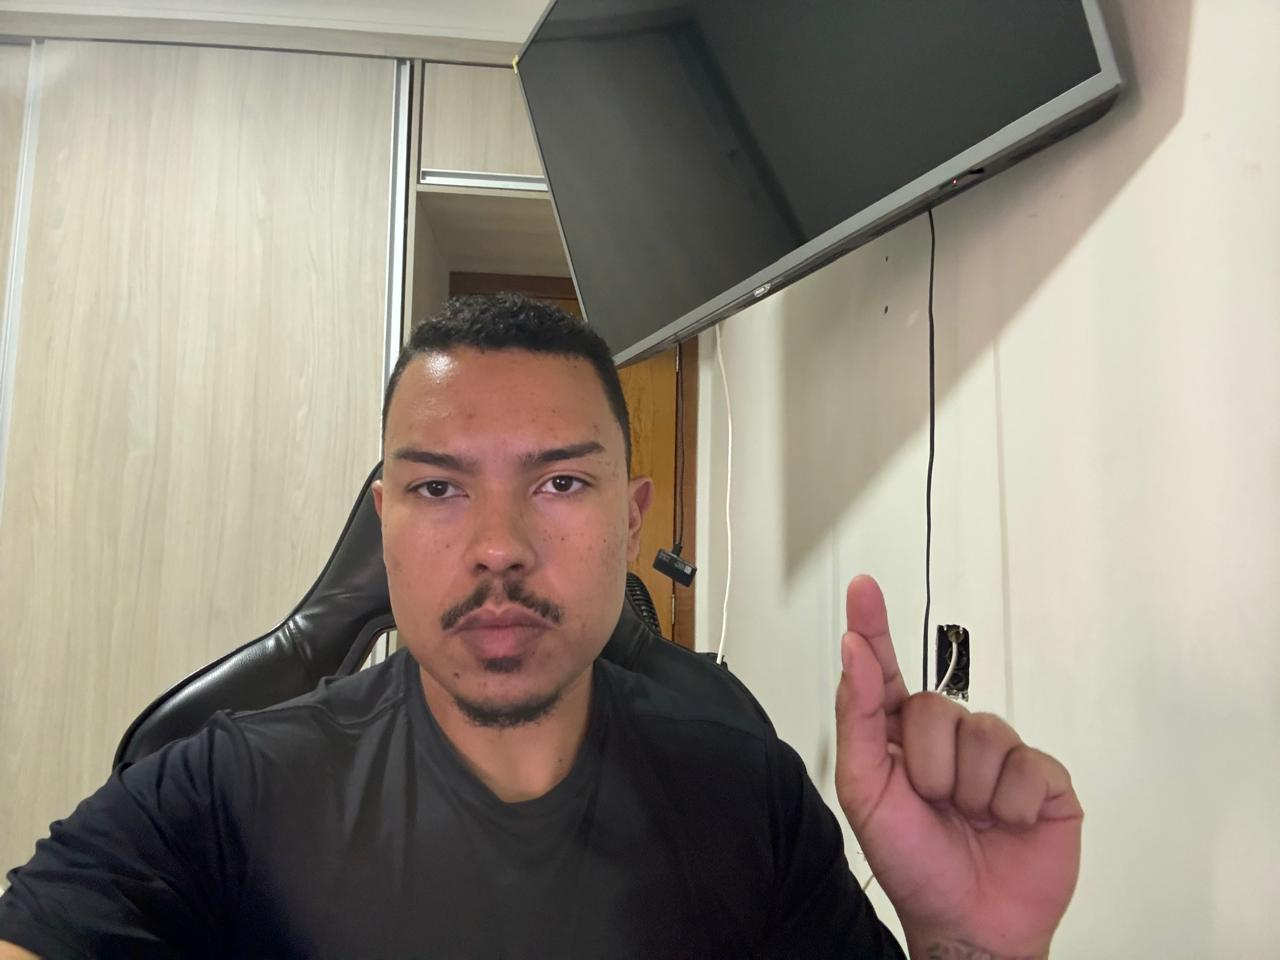g: (816, 554, 1093, 955)
